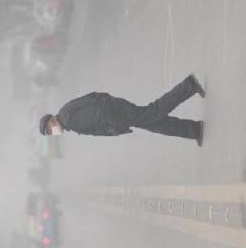person: (38, 73, 205, 148)
